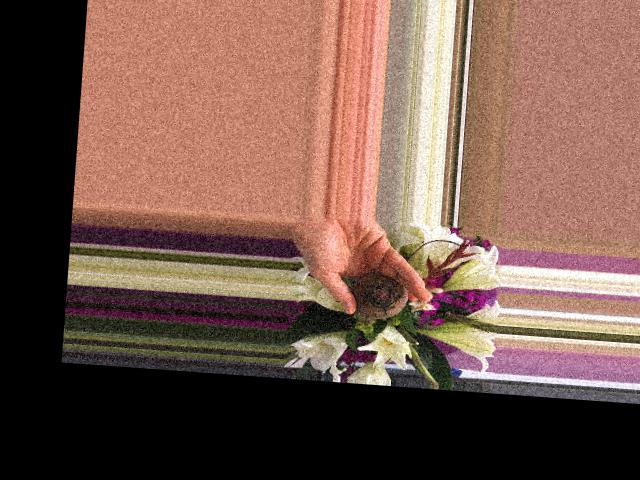beet: (350, 270, 411, 320)
